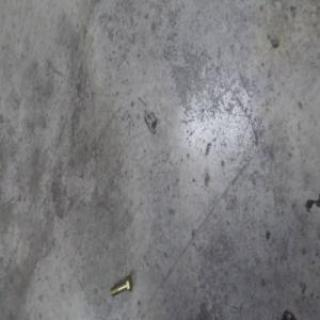Bolttrack_idkeyframe: (112, 276, 135, 301)
